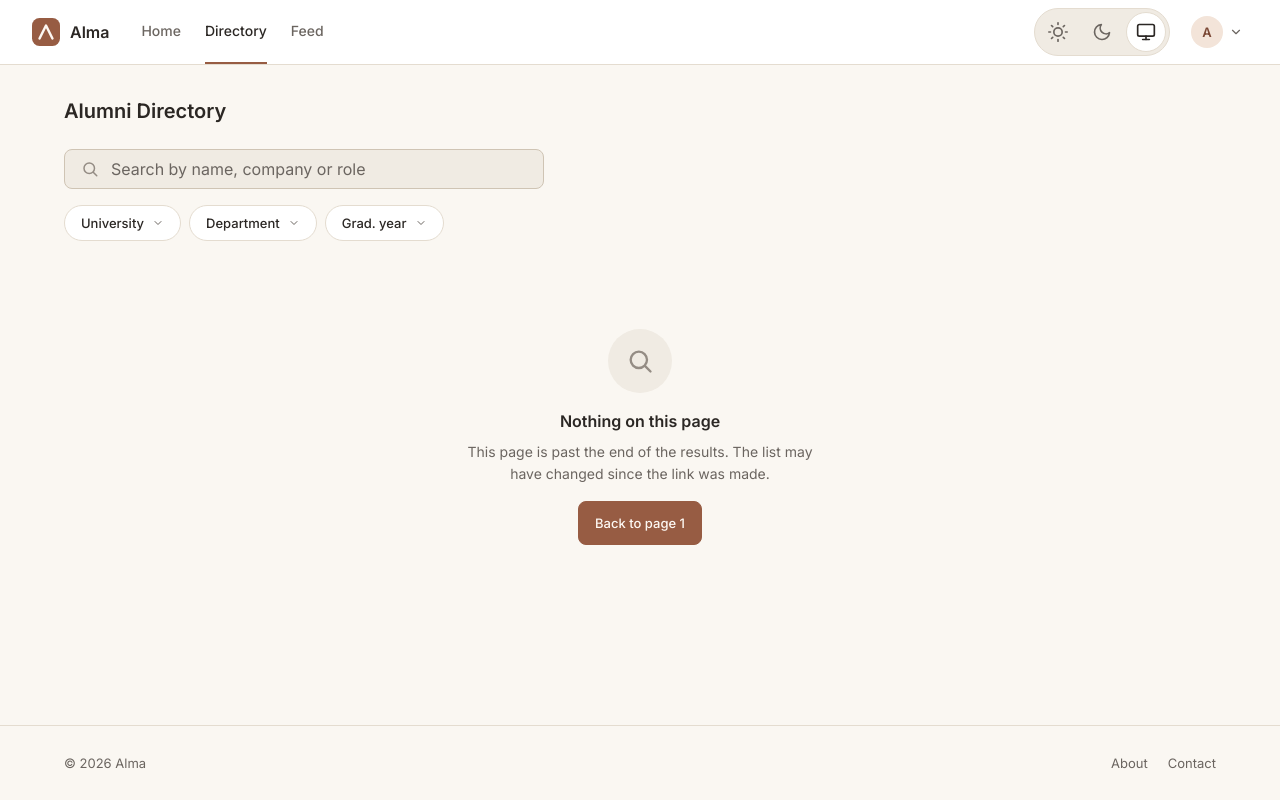
DirectoryPage › shows a way back from a page past the end, with no count
Expected: the heading "Nothing on this page" is shown, 560,409 -> 720,433
Click the button "Back to page 1": (640, 523) 578,501 -> 702,545
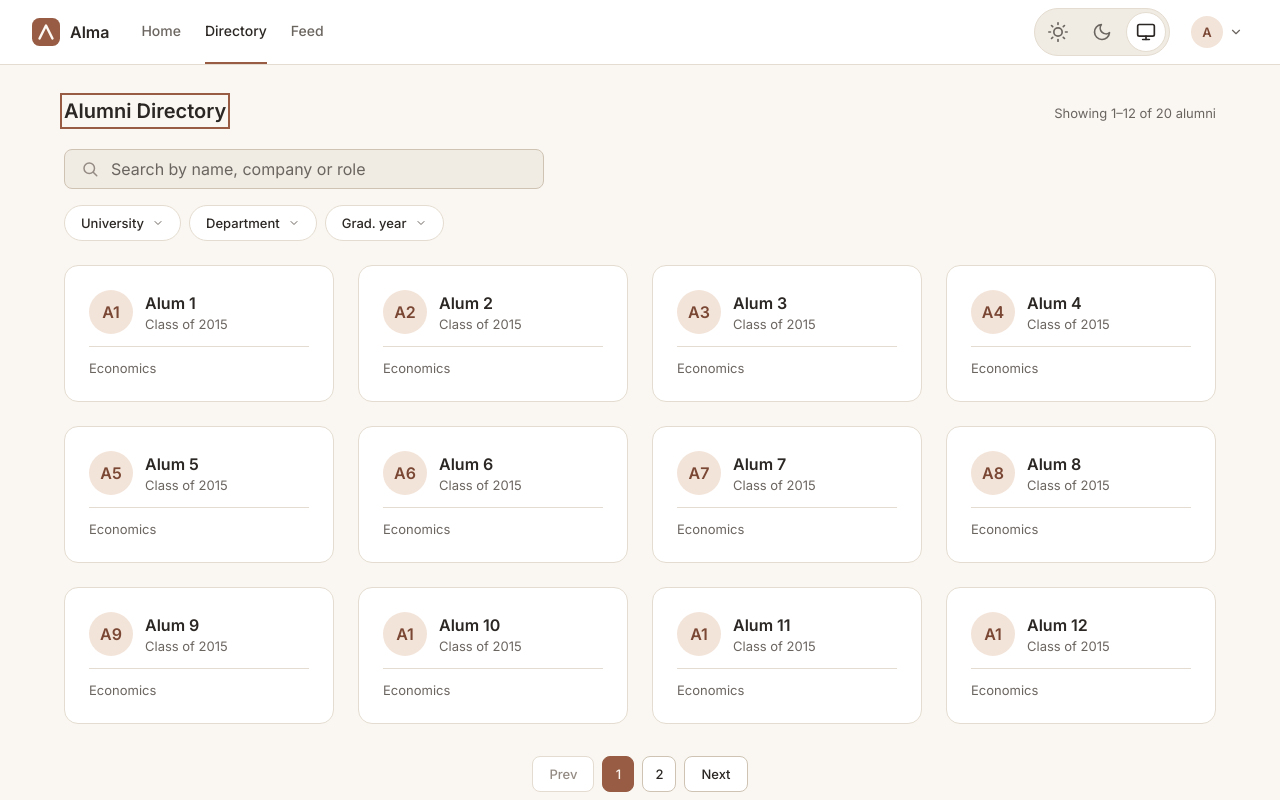
Result: the element showing "Showing 1–12 of 20 alumni" is shown at 1054,104 -> 1216,122
